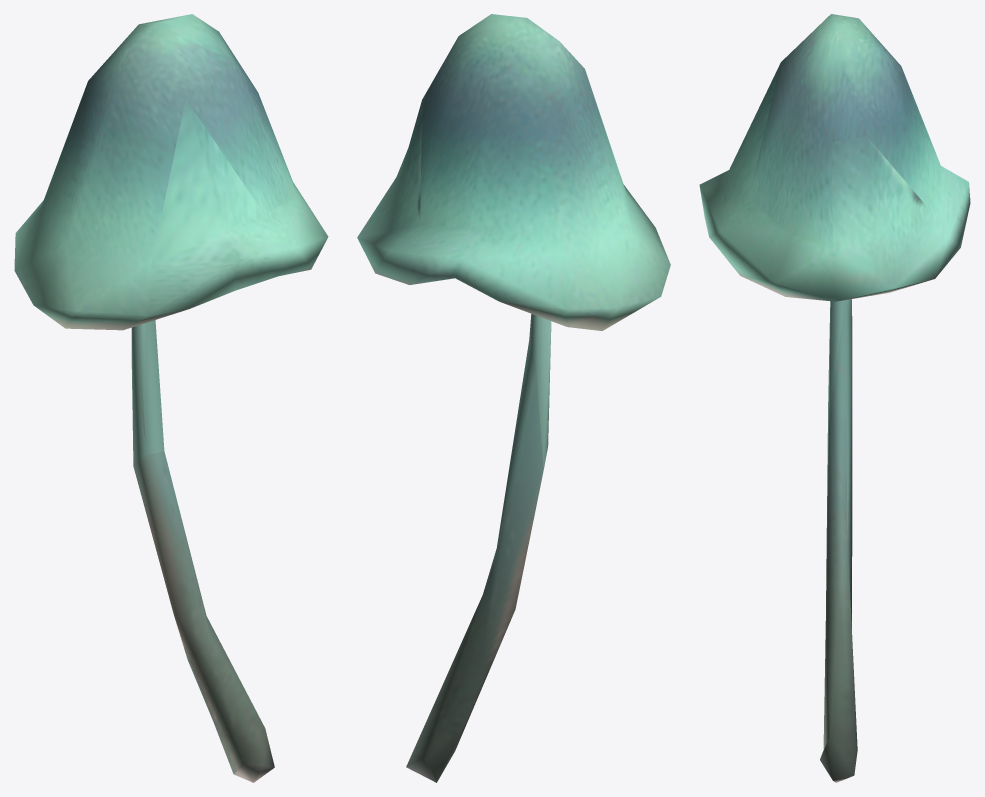
The model's file is fungus-teal-small-a.gltf.
3 views of the same model, side by side, from view 1: azimuth 30°, elevation 25°; view 2: azimuth 150°, elevation 25°; view 3: azimuth 270°, elevation 25° (orthographic). The views are drawn at different scales.
Visible parts, largest first — view 1: fungus-teal-small-a; view 2: fungus-teal-small-a; view 3: fungus-teal-small-a.
Part boxes in pixels (x1,y1,x2,y2): fungus-teal-small-a: [14, 14, 328, 782]; fungus-teal-small-a: [357, 14, 670, 782]; fungus-teal-small-a: [699, 14, 970, 782].
Size of the model in its own units: 0.1591 by 0.4274 by 0.1444.
Materials: 1 (1 with a texture image).
